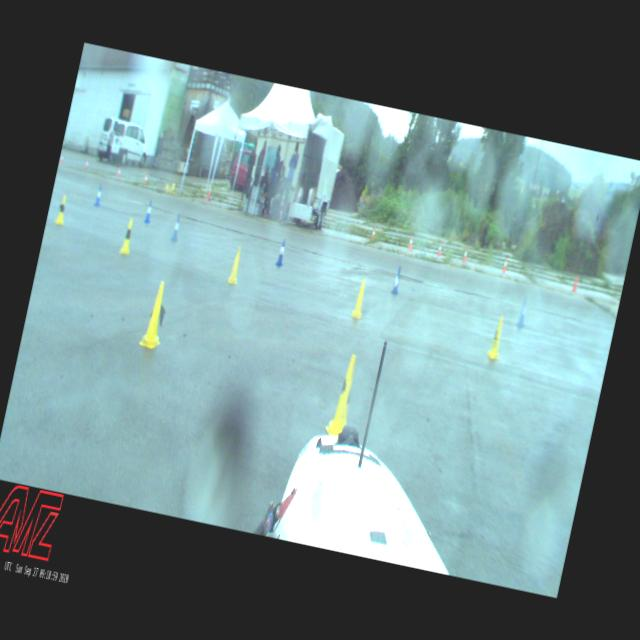blue_cone: (515, 296, 529, 328), (391, 265, 404, 294), (275, 238, 288, 266), (171, 215, 181, 240), (144, 200, 154, 222), (94, 185, 104, 207)
orange_cone: (407, 232, 414, 250), (369, 225, 376, 243), (436, 240, 443, 256), (502, 258, 508, 274), (462, 246, 468, 262), (58, 151, 64, 163), (116, 166, 121, 178), (143, 172, 148, 184), (84, 158, 89, 169)
yellow_cone: (324, 352, 359, 436), (138, 279, 173, 350), (485, 314, 509, 361), (351, 278, 369, 319), (118, 218, 136, 254), (227, 246, 244, 284), (54, 194, 68, 224)
